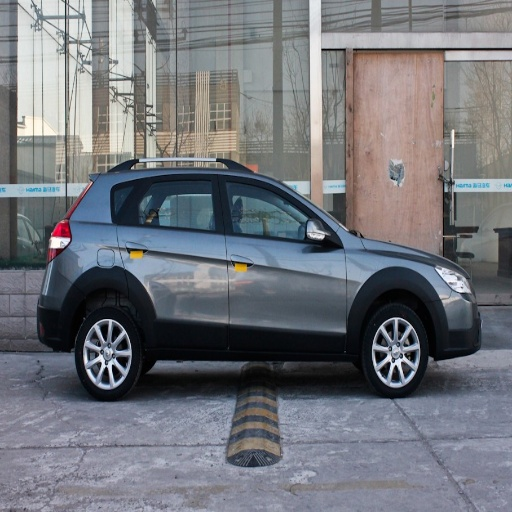back_right_door: (119, 173, 226, 345)
front_right_door: (221, 174, 347, 345)
